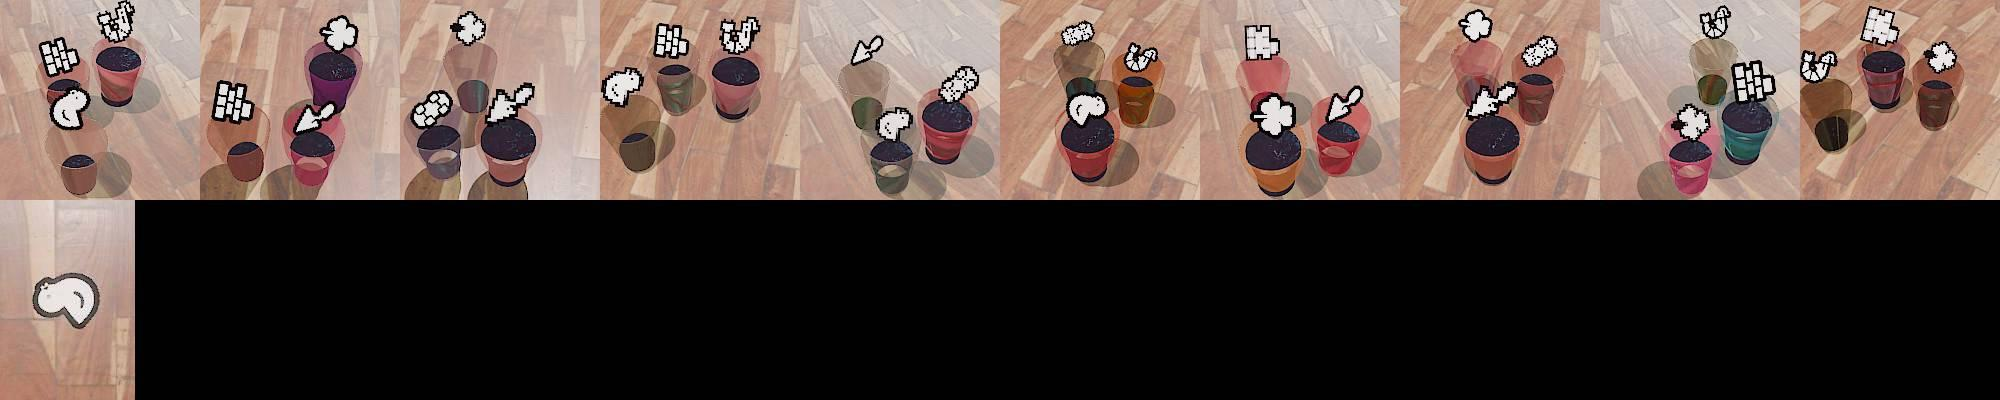icon: (32, 273, 101, 329), (1463, 79, 1519, 120), (1250, 90, 1298, 138), (485, 82, 534, 124), (1732, 60, 1778, 104), (210, 78, 255, 124), (47, 84, 92, 130), (1065, 87, 1111, 129), (292, 98, 341, 135), (718, 15, 760, 57), (601, 66, 644, 107), (411, 88, 454, 129), (1671, 101, 1712, 141), (40, 37, 82, 76), (1324, 83, 1364, 125), (937, 65, 980, 103), (96, 3, 134, 43), (1861, 6, 1899, 46), (319, 14, 358, 52), (653, 20, 691, 59), (1244, 23, 1281, 61), (1800, 48, 1839, 84), (875, 106, 912, 143), (449, 10, 486, 46), (1519, 36, 1559, 69), (1459, 9, 1492, 42), (851, 33, 884, 66), (1923, 41, 1958, 73), (1124, 41, 1158, 73), (1699, 5, 1731, 39), (1061, 19, 1096, 47)
